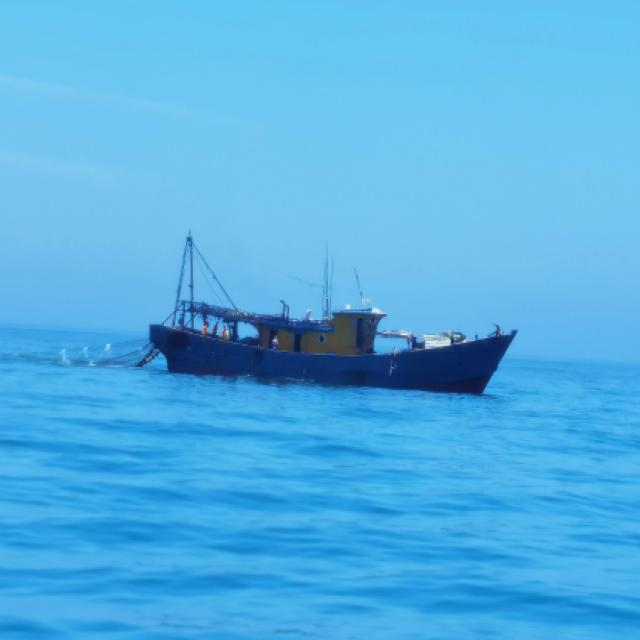fishing boat: (147, 232, 516, 390)
